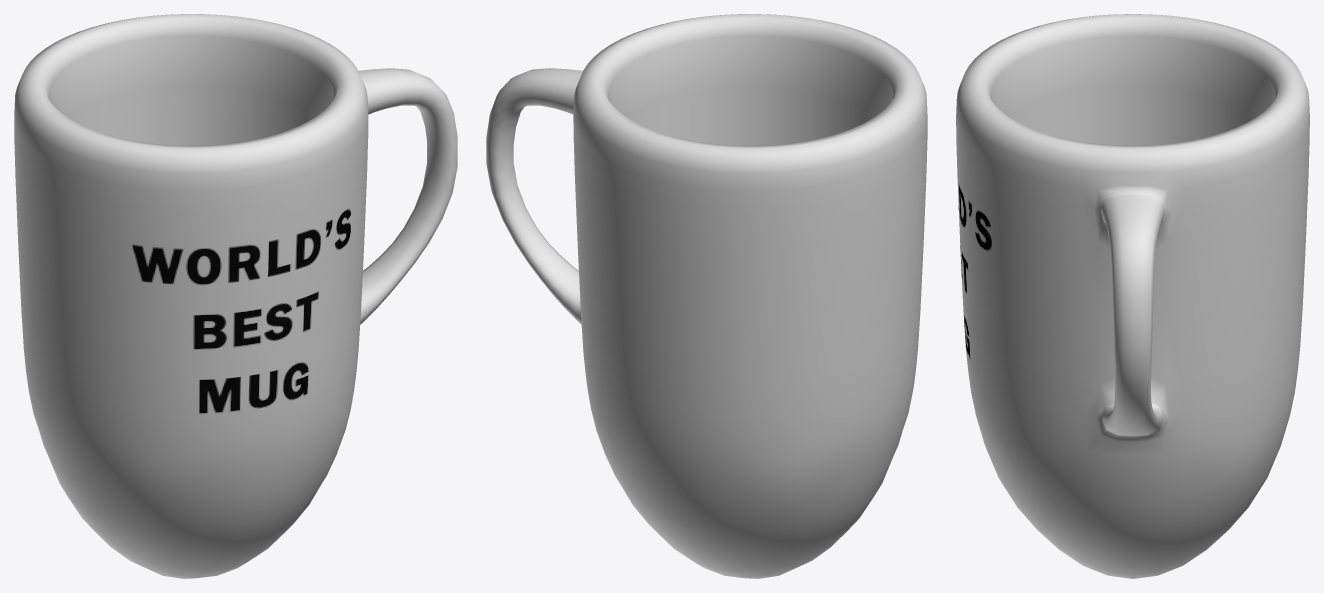
File: unstableCoffeeMug_gltf.gltf
3 views of the same model, side by side, from view 1: azimuth 30°, elevation 25°; view 2: azimuth 150°, elevation 25°; view 3: azimuth 270°, elevation 25° (orthographic).
Parts seen in each view (by area): view 1: uselessMug; view 2: uselessMug; view 3: uselessMug.
Boxes of the visible parts, x1,y1,x2,y2 form: uselessMug: (14, 14, 457, 578); uselessMug: (486, 14, 927, 578); uselessMug: (956, 14, 1309, 578).
Bounding box in the file's own units: 1.14 × 1.28 × 0.8425.
1 material, 1 textured.
